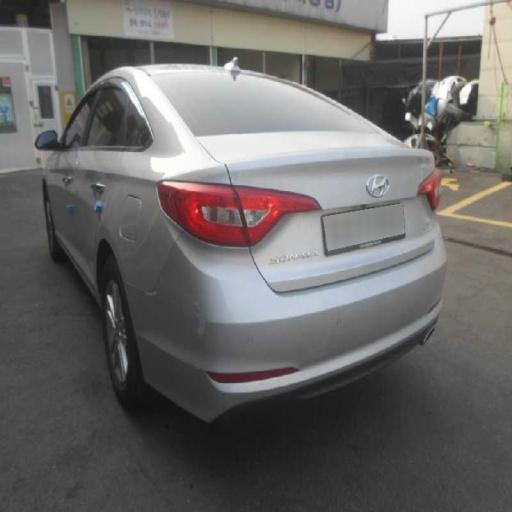normal: (33, 66, 442, 384)
